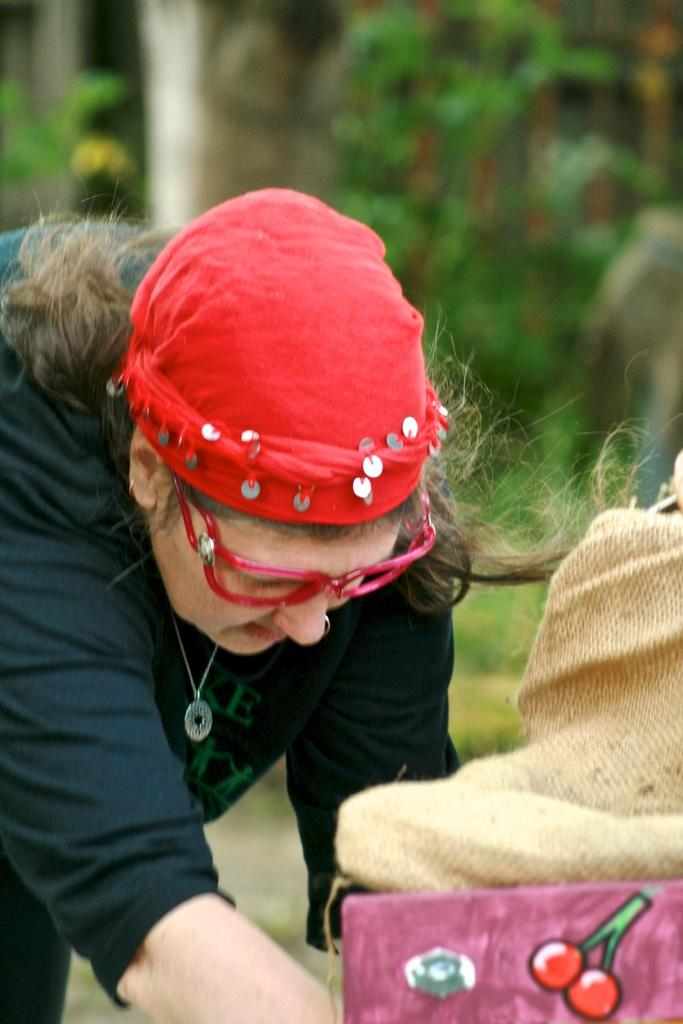Hat: (330, 486, 682, 904)
